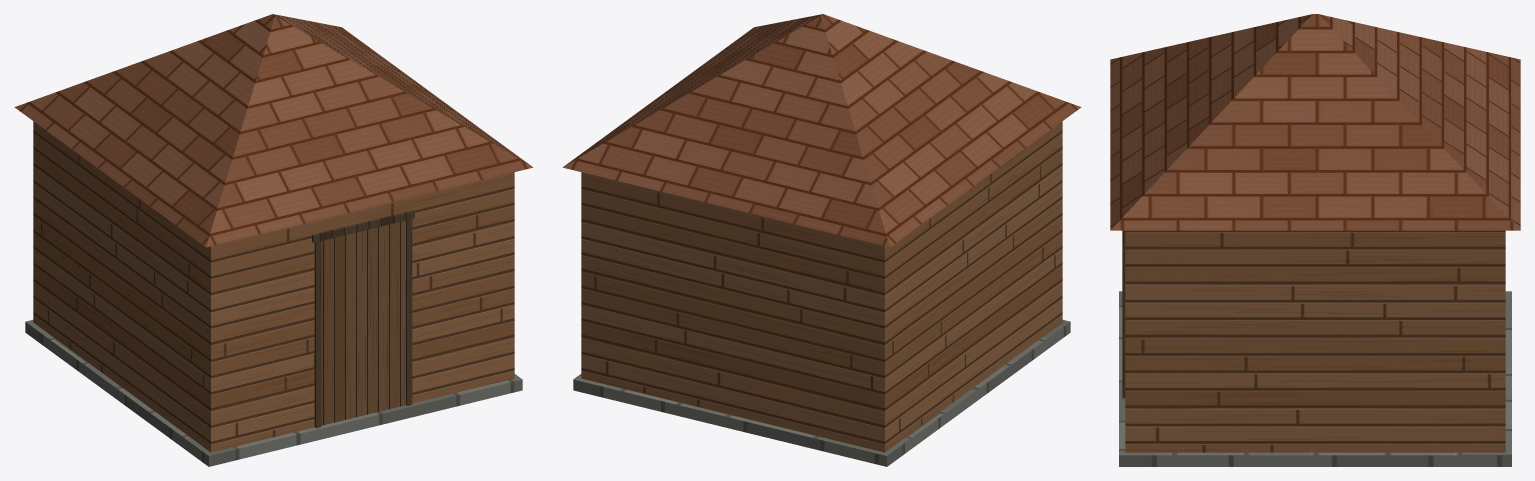
File: house_hut_b.glb
3 renders of one model, left to right at view 1: azimuth 30°, elevation 25°; view 2: azimuth 150°, elevation 25°; view 3: azimuth 270°, elevation 25°, orthographic. The views are drawn at different scales.
Visible parts, largest first — view 1: ae_sand_house_hut_b; view 2: ae_sand_house_hut_b; view 3: ae_sand_house_hut_b.
Boxes of the visible parts, x1=… form: ae_sand_house_hut_b: x1=14, y1=14, x2=533, y2=466; ae_sand_house_hut_b: x1=562, y1=14, x2=1081, y2=466; ae_sand_house_hut_b: x1=1110, y1=14, x2=1520, y2=466.
Bounding box in the file's own units: 3.78 × 3.82 × 3.83.
Materials: 1 (1 with a texture image).
